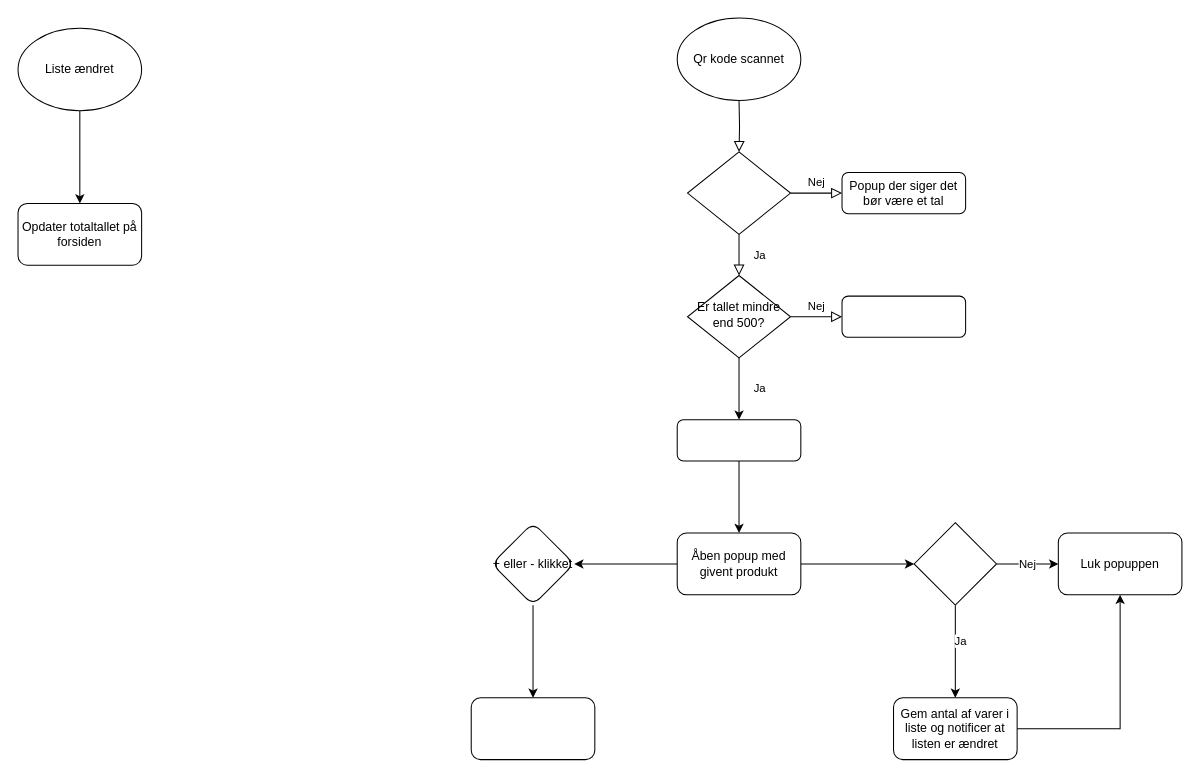
Image size: 1200x778. Some labels were removed from this diagram. The shapes that lost their labels are listed below. From the top down, each one's centre as x and y in pixels, then its label:
At (738,192): "Er koden et tal".
At (903,316): "Skriv at tallet bør være mindre end 500".
At (738,440): "Bed database om produkt ved givent ID".
At (955,563): "Bruger klikker gem til liste".
At (532,728): "Ændr antallet af varer".
